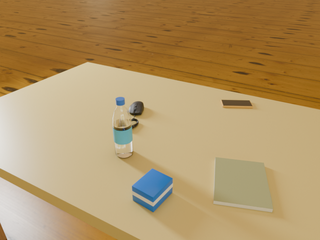book: (213, 157, 273, 212)
bottle: (112, 97, 133, 158)
box: (132, 169, 173, 212)
mouse: (128, 101, 144, 116)
phone: (221, 100, 253, 108)
